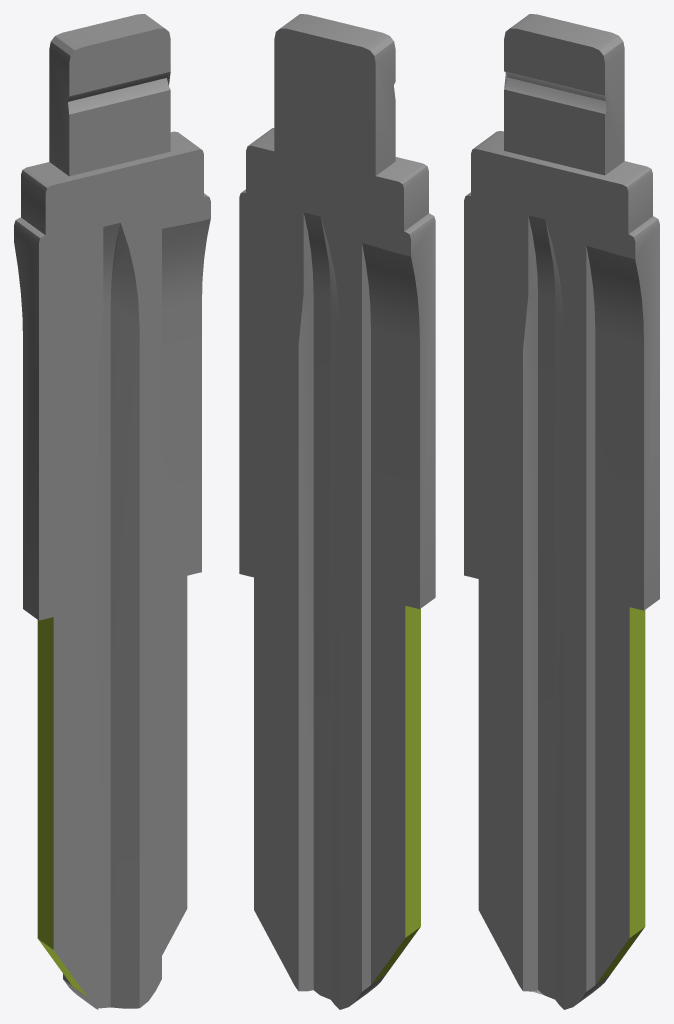
3 renders of one model, left to right at view 1: azimuth 30°, elevation 25°; view 2: azimuth 150°, elevation 25°; view 3: azimuth 330°, elevation 25°, orthographic.
Parts seen in each view (by area): view 1: Box006; view 2: Box006; view 3: Box006.
Part boxes in pixels (x1,y1,x2,y2): Box006: [14, 14, 210, 1009]; Box006: [239, 14, 435, 1009]; Box006: [464, 14, 659, 1009].
Size of the model in its own units: 10 by 54 by 2.5.
